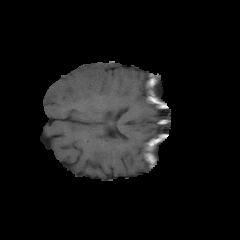glioma: (46, 68, 107, 107)
